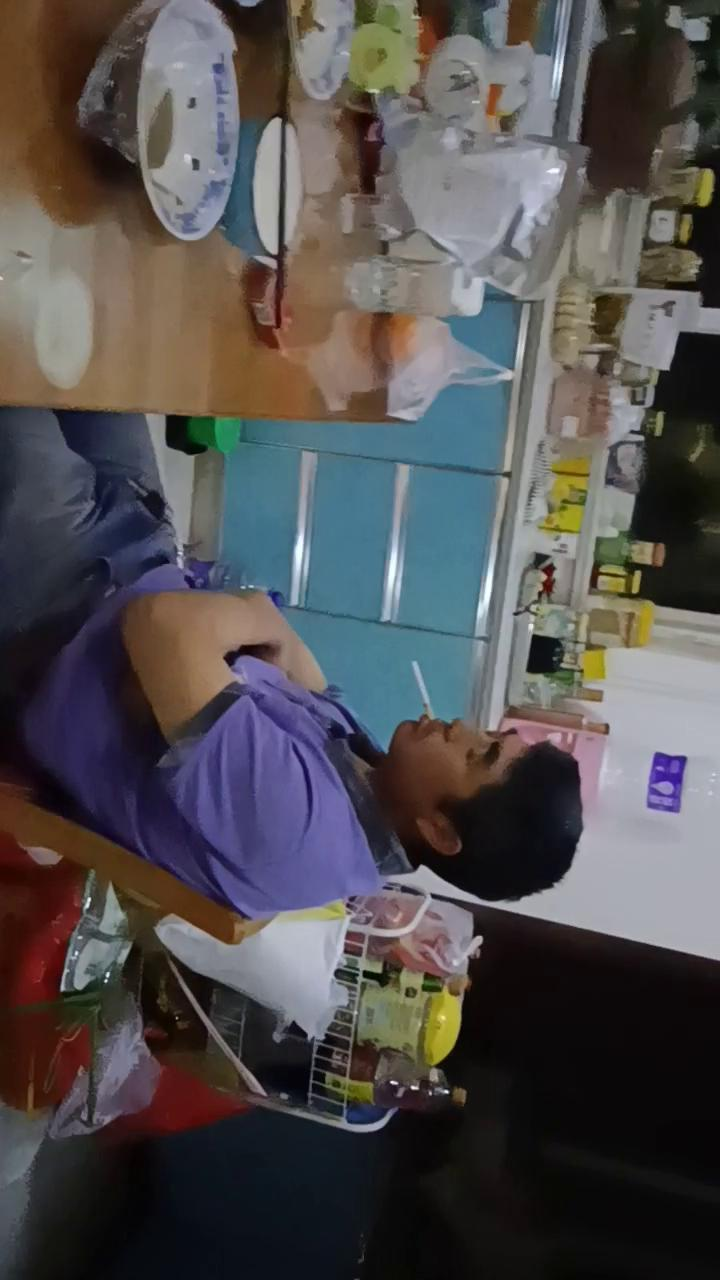smoke: (411, 660, 435, 720)
